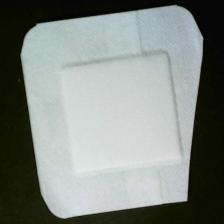Cut: (19, 6, 206, 221)
